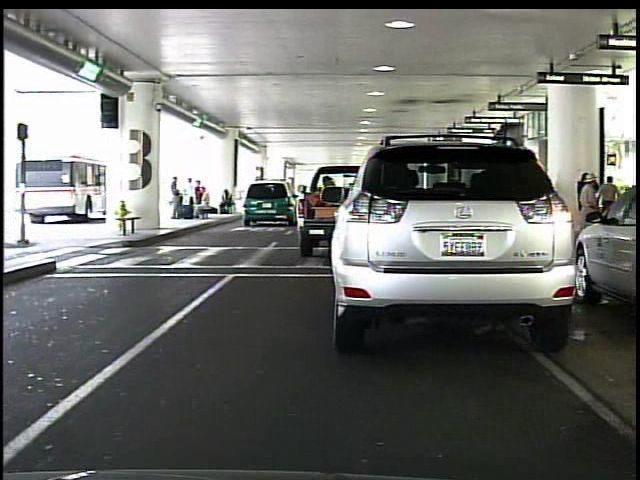person: (576, 169, 604, 255), (600, 174, 622, 233), (165, 170, 185, 223)
